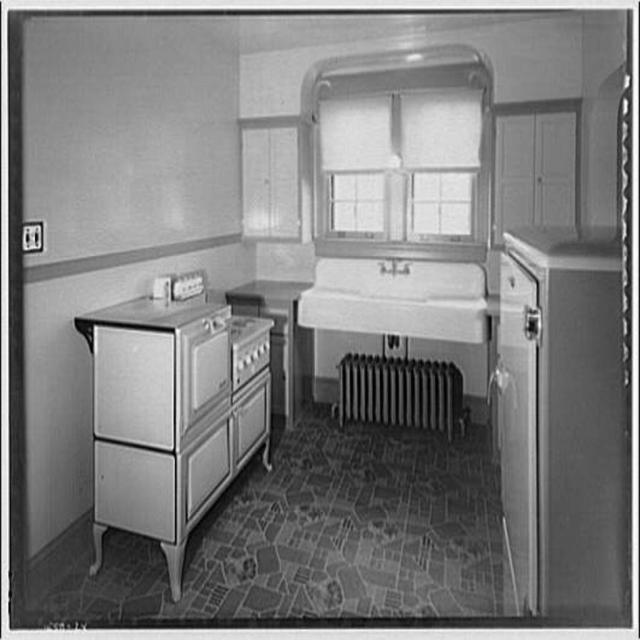beside table: (119, 304, 268, 535)
refrigerator: (499, 230, 603, 622)
window: (338, 86, 482, 247)
